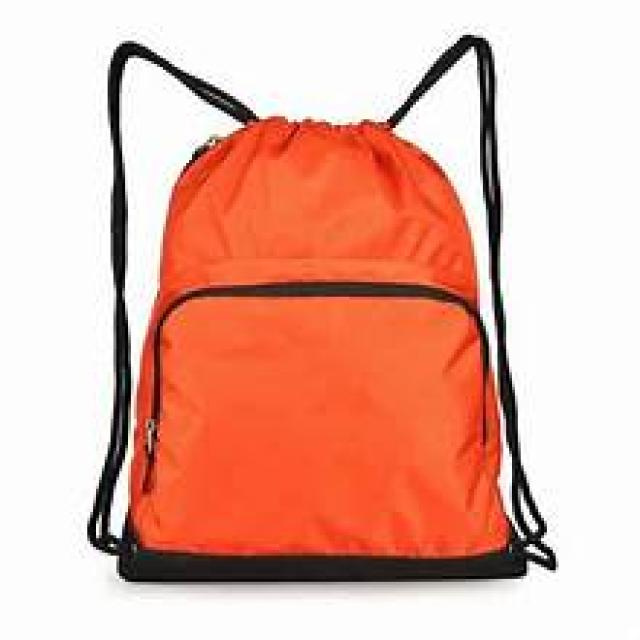backpack: (85, 33, 557, 583)
